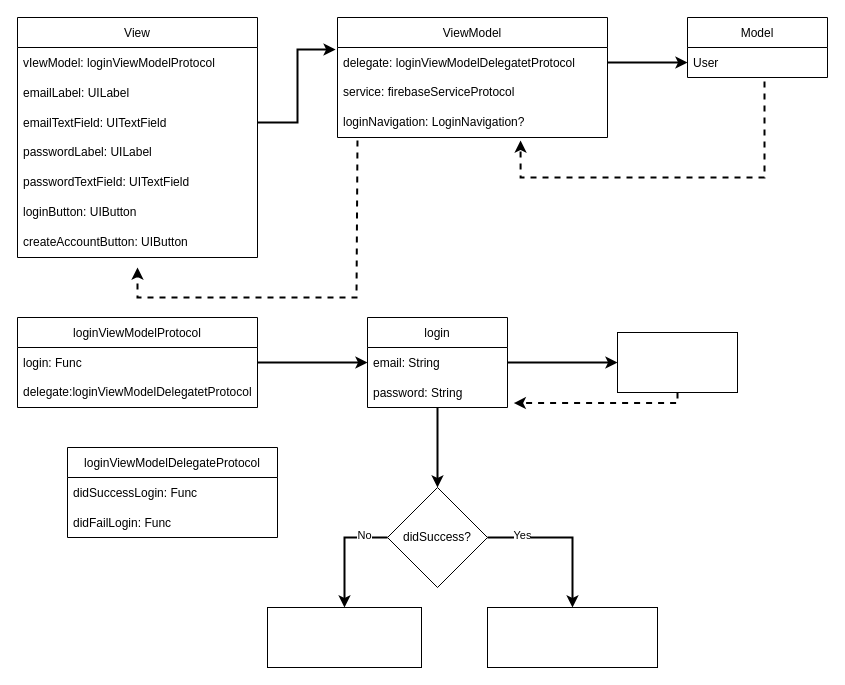
Image size: 845x685. Some labels were removed from this diagram. The shapes that lost their labels are listed below. From the top down, each one's centre as x and y in pixels, then its label:
pixel 677 362: FirebaseService
pixel 344 637: didFailLogin -> Show Alert Error
pixel 572 637: didSuccessLogin -> Push FoodListViewController
